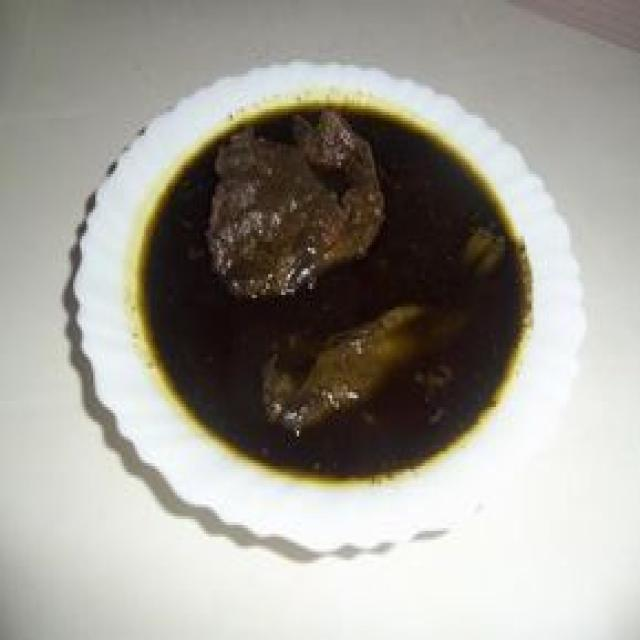Melloukhia: (94, 69, 556, 510)
